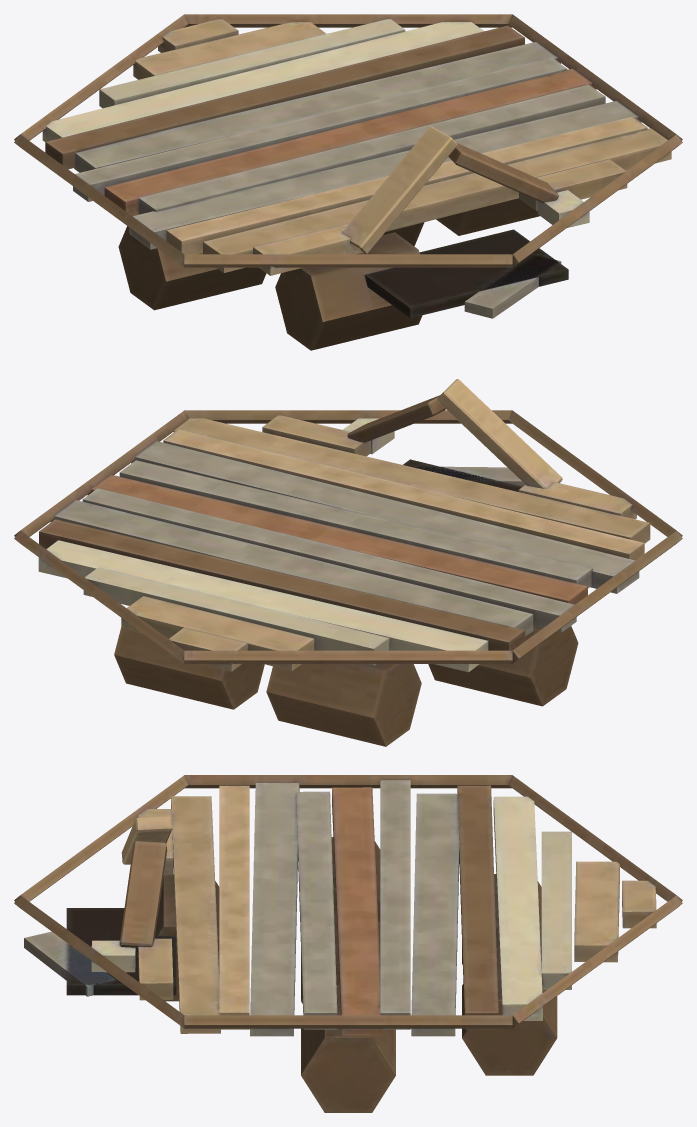
Rendered from raft-damaged-age1-lite.glb.
3 renders of one model, top to bottom at view 1: azimuth 30°, elevation 25°; view 2: azimuth 150°, elevation 25°; view 3: azimuth 270°, elevation 25°, orthographic.
Visible parts, largest first — view 1: raft-damaged-age1-lite; view 2: raft-damaged-age1-lite; view 3: raft-damaged-age1-lite.
Boxes of the visible parts, bbox=[...] form: raft-damaged-age1-lite: bbox=[14, 14, 682, 350]; raft-damaged-age1-lite: bbox=[14, 379, 682, 746]; raft-damaged-age1-lite: bbox=[14, 775, 682, 1112].
Size of the model in its own units: 1.59 by 0.5784 by 1.83.
1 material, 1 textured.
